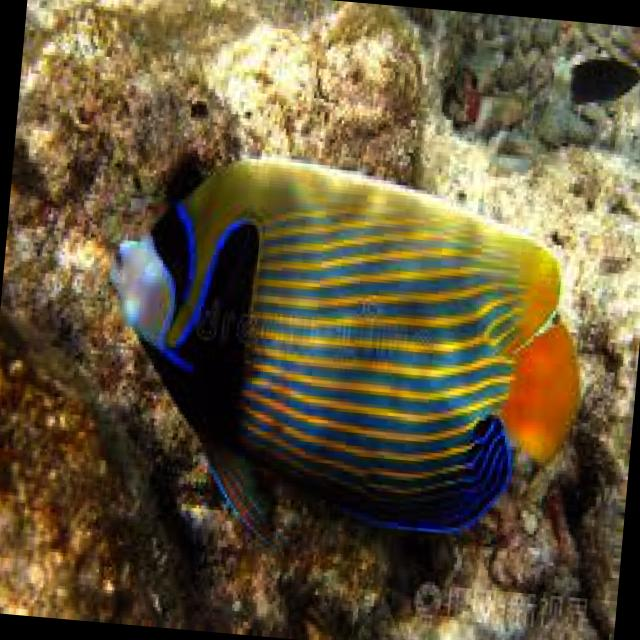AngelFish: (96, 147, 594, 565)
